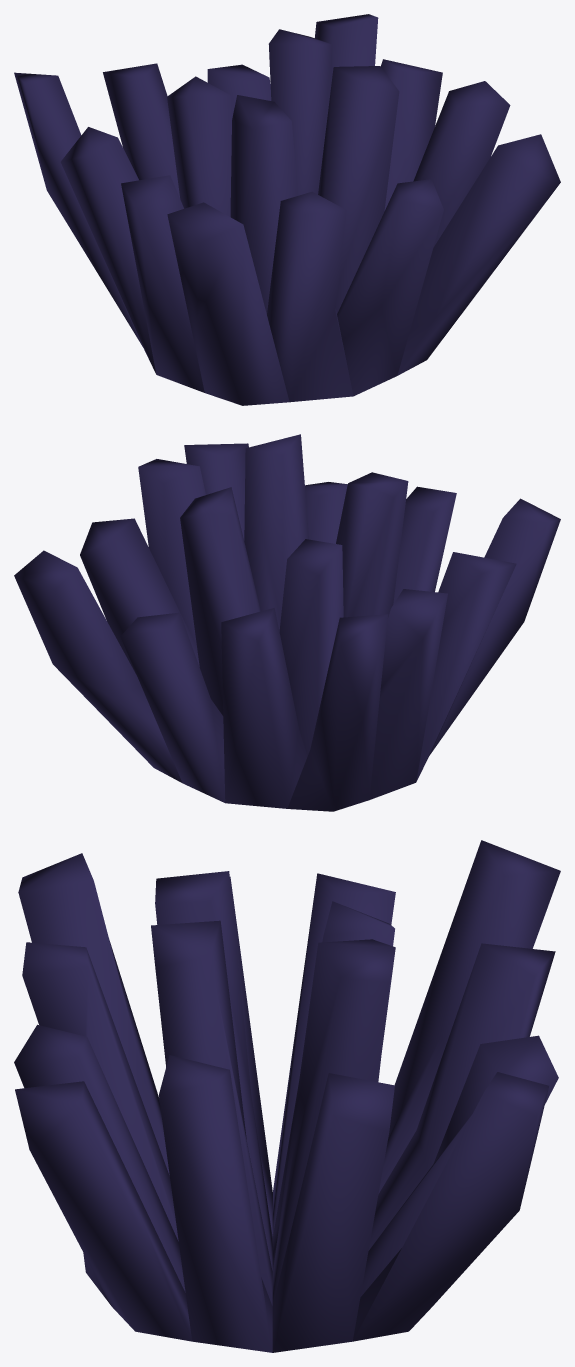
File: seaGrassCylinder2Violet.fbx
3 views of the same model, one above another, from view 1: azimuth 30°, elevation 25°; view 2: azimuth 150°, elevation 25°; view 3: azimuth 270°, elevation 25° (orthographic). The views are drawn at different scales.
Visible parts, largest first — view 1: seaGrassCylinder2VioletObject; view 2: seaGrassCylinder2VioletObject; view 3: seaGrassCylinder2VioletObject.
Boxes of the visible parts, <box> form: seaGrassCylinder2VioletObject: <box>14,14,560,405</box>; seaGrassCylinder2VioletObject: <box>14,434,560,811</box>; seaGrassCylinder2VioletObject: <box>14,840,560,1352</box>.
Bounding box in the file's own units: 0.3512 × 0.2546 × 0.3387.
